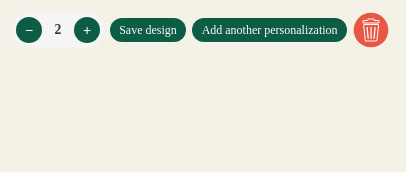
Test: AddToCartButton › guest user (unauthenticated) › locks conflicting cart actions and reports a failed authenticated save
What coordinates should you click on to do the following:
click the button "Save design"
I would click on:
 (148, 30)
Its box is [110,18,186,42].
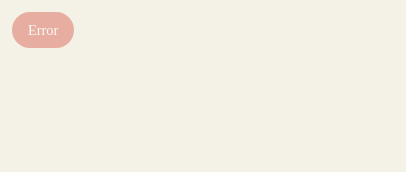
Now the button "Error" is shown, box [12,12,74,48]
